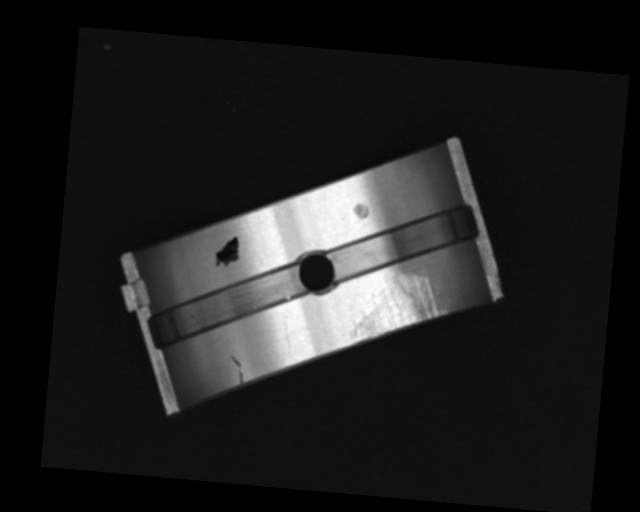blot: (213, 234, 241, 271)
bruise: (352, 202, 370, 221)
gap: (145, 248, 306, 357), (323, 191, 481, 293)
hole: (293, 248, 337, 298)
nick: (227, 356, 245, 386), (280, 321, 295, 356)
scratch: (347, 267, 454, 352)
